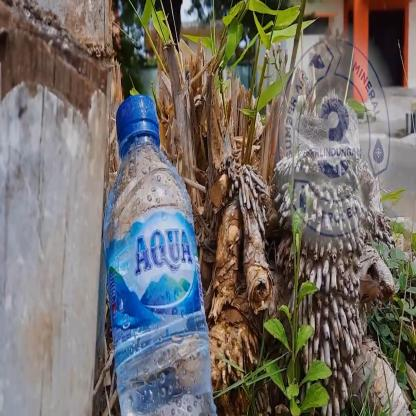plastic_bottles: (86, 98, 230, 416)
